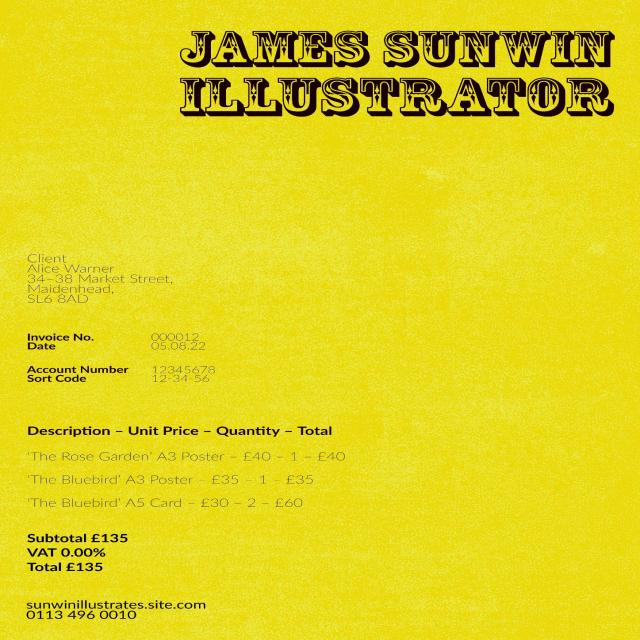paragraph: (163, 27, 623, 122), (18, 252, 175, 305), (27, 533, 139, 576), (27, 331, 215, 356), (26, 364, 219, 388), (27, 600, 211, 622)
table: (26, 424, 357, 510)
